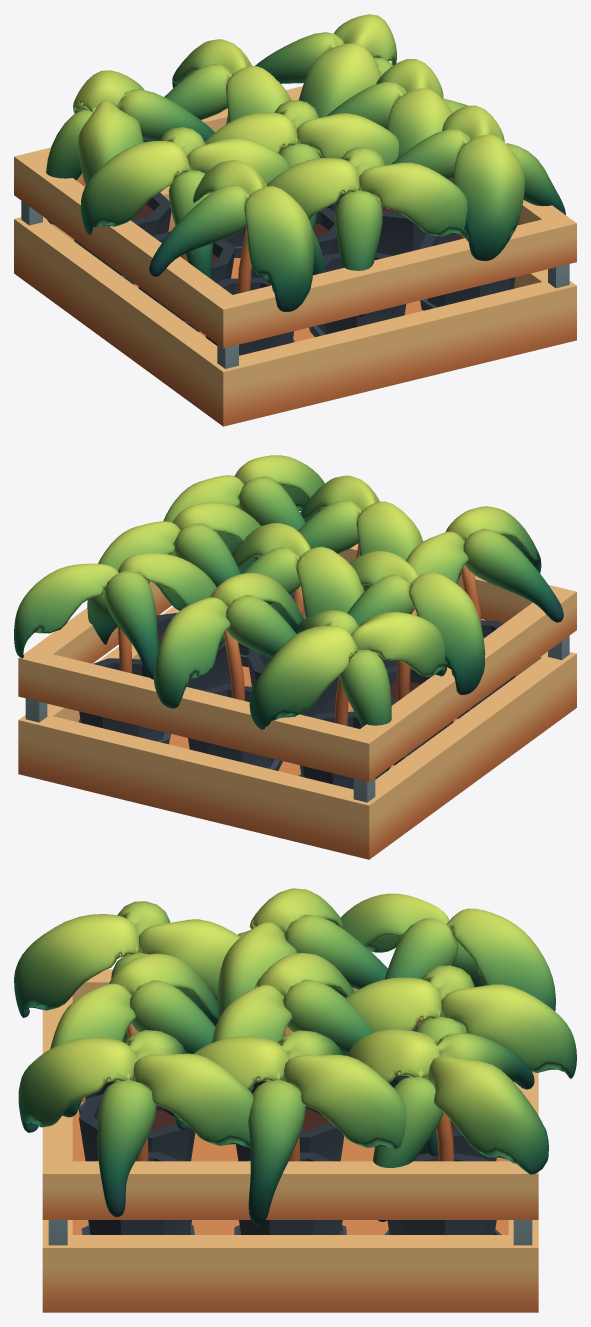
Rendered from SeedlingPack.fbx.
The picture shows the model from 3 angles, top to bottom: view 1: azimuth 30°, elevation 25°; view 2: azimuth 150°, elevation 25°; view 3: azimuth 270°, elevation 25°; orthographic projection. The views are drawn at different scales.
Visible parts, largest first — view 1: SeedlingPack; view 2: SeedlingPack; view 3: SeedlingPack.
Part boxes in pixels (x1,y1,x2,y2): SeedlingPack: [14, 14, 576, 426]; SeedlingPack: [14, 455, 576, 859]; SeedlingPack: [14, 888, 576, 1312].
Bounding box in the file's own units: 0.3633 × 0.1707 × 0.3714.
